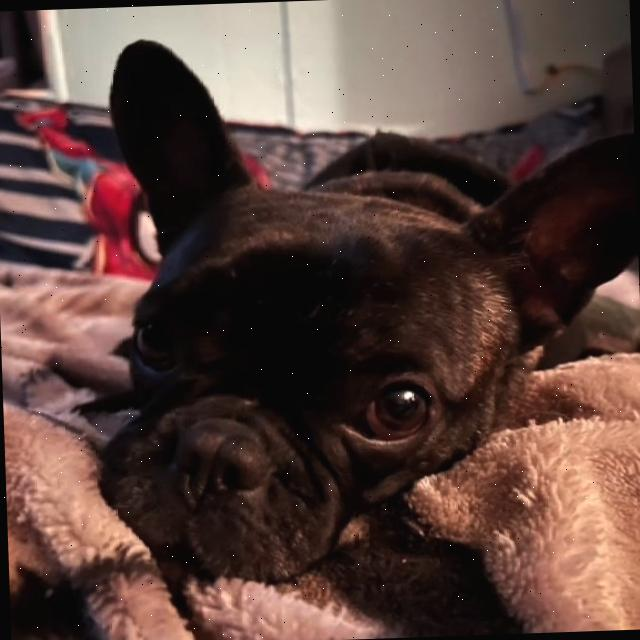french_bulldog_dog: (72, 11, 640, 599)
